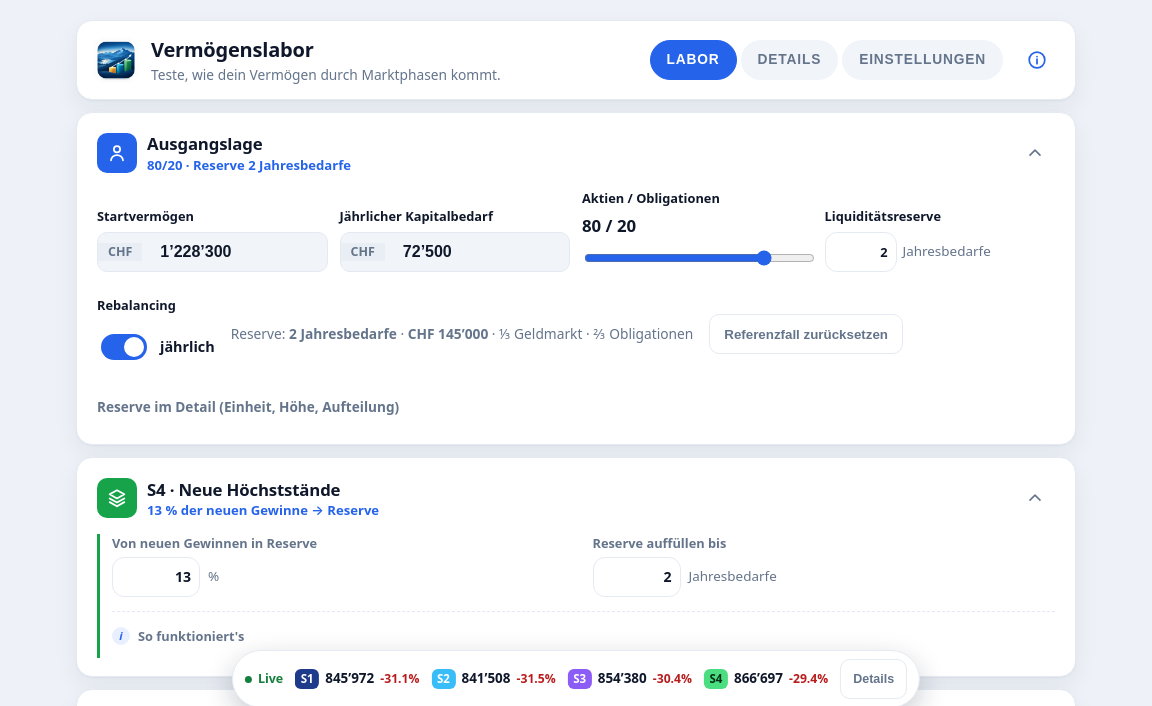
Test case: R – Workflow (Labor → Details → Einstellungen) › R6: die Einstellungen zeigen Quellen und Modellannahmen
Click the button with class "mode-tab" showing "Einstellungen": (923, 60) [842,40,1003,80]
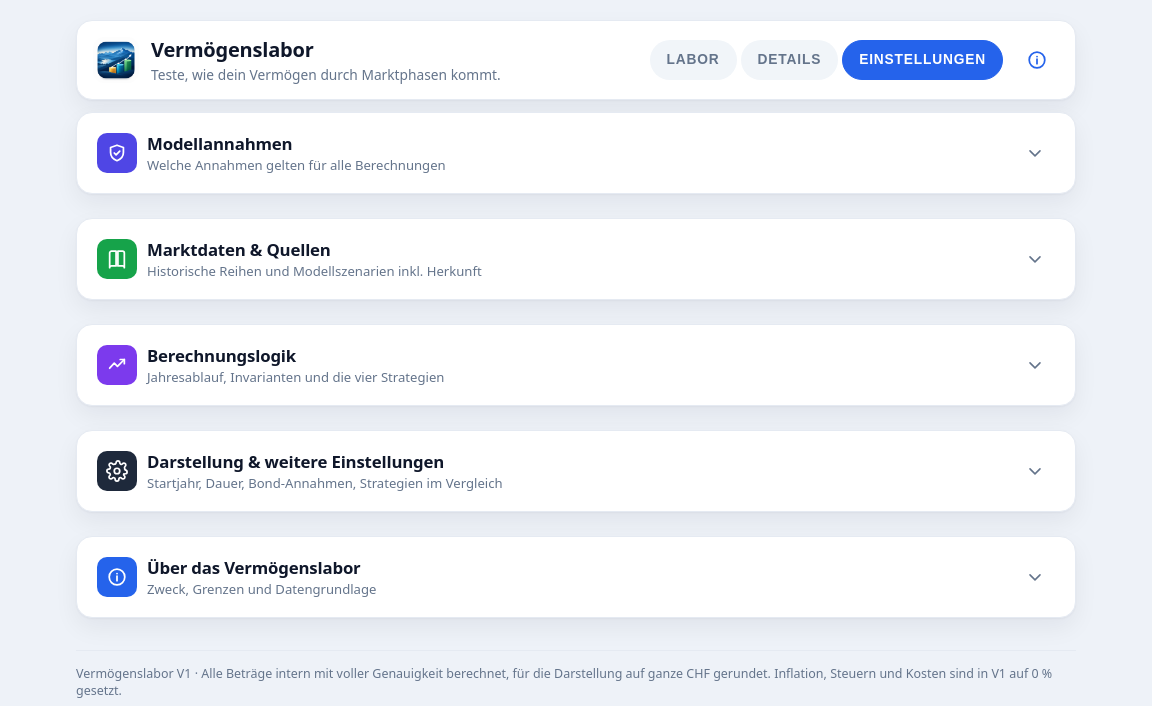
Now the text "Modellannahmen" is shown, box [147,132,292,155]
Now the text "Marktdaten & Quellen" is shown, box [147,238,331,261]
Now the text "Berechnungslogik" is shown, box [147,344,296,367]
